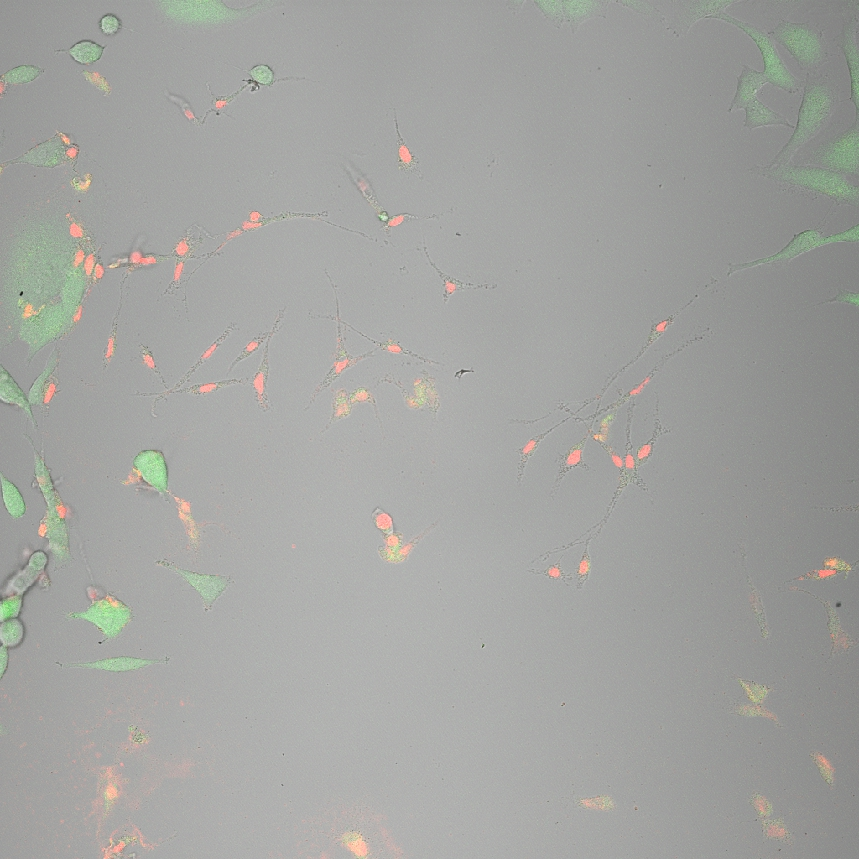dead: (202, 207, 367, 253), (597, 405, 678, 498), (519, 526, 619, 596), (340, 160, 411, 242), (624, 291, 706, 362), (362, 503, 444, 573), (301, 315, 377, 390), (547, 779, 658, 828), (69, 758, 152, 823), (505, 398, 561, 490), (424, 252, 502, 316), (314, 379, 396, 436), (154, 87, 257, 123), (121, 325, 170, 400), (788, 545, 858, 593), (798, 738, 848, 802), (168, 376, 252, 410), (326, 821, 396, 858), (387, 117, 424, 174), (244, 353, 276, 410)
live: (143, 554, 256, 619), (51, 647, 196, 685)
